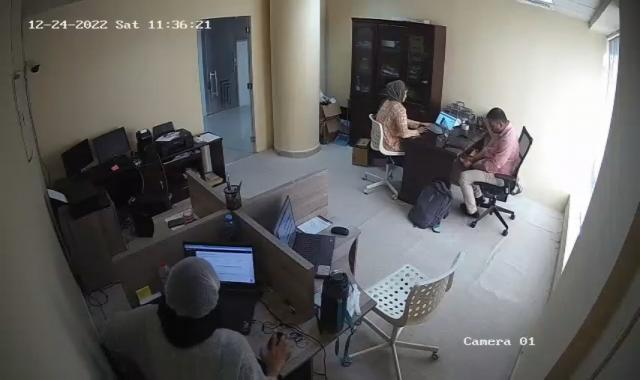hairnet: (164, 252, 219, 324)
no_hairnet: (484, 107, 509, 135), (384, 79, 408, 102)
